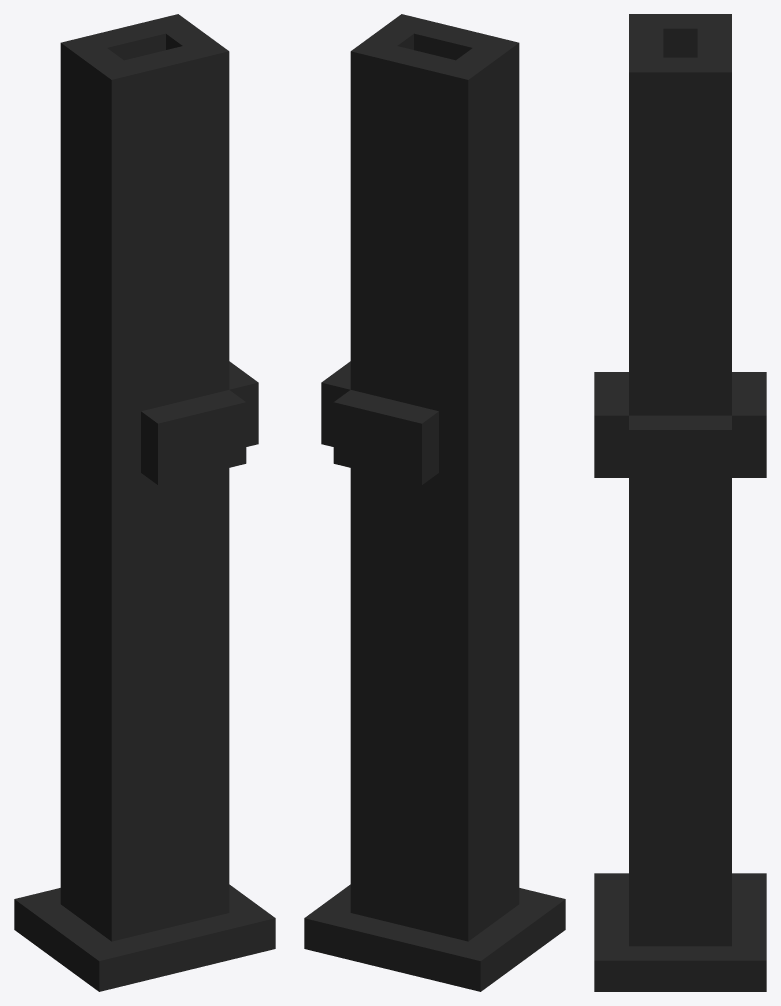
Rendered from MagMP40.fbx.
3 views of the same model, side by side, from view 1: azimuth 30°, elevation 25°; view 2: azimuth 150°, elevation 25°; view 3: azimuth 270°, elevation 25° (orthographic).
Parts seen in each view (by area): view 1: MagMP40.001; view 2: MagMP40.001; view 3: MagMP40.001.
Boxes of the visible parts, x1,y1,x2,y2 form: MagMP40.001: [14, 14, 275, 991]; MagMP40.001: [304, 14, 565, 991]; MagMP40.001: [594, 14, 766, 991].
Bounding box in the file's own units: 0.6 × 2.9 × 0.5.
Materials: 1 (1 with a texture image).
